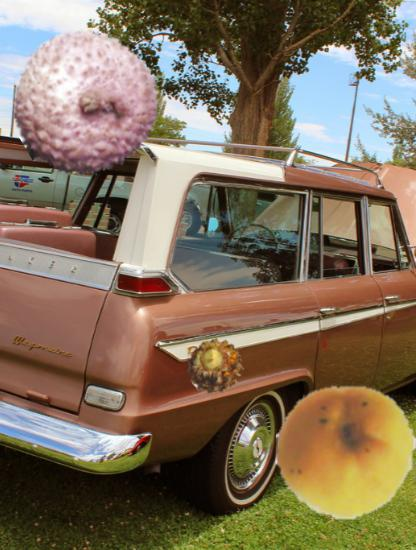Lychee: (11, 28, 161, 178)
Peach: (276, 383, 416, 523)
Pineapple: (187, 338, 246, 397)
